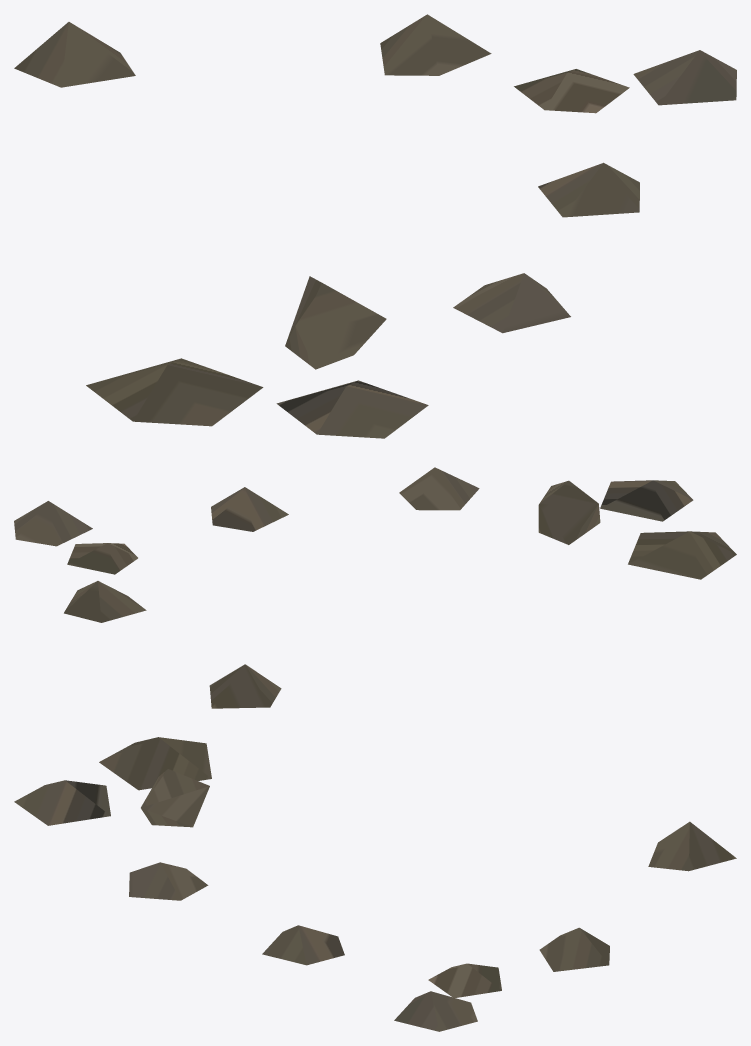
The model's file is rock_gfield2_hdtex.glb.
The picture shows the model from 3 angles, top to bottom: view 1: azimuth 30°, elevation 25°; view 2: azimuth 150°, elevation 25°; view 3: azimuth 270°, elevation 25°; orthographic projection. The views are drawn at different scales.
Visible parts, largest first — view 1: Rock_GField1; view 2: Rock_GField1; view 3: Rock_GField1.
Boxes of the visible parts, bbox=[...] form: Rock_GField1: bbox=[14, 14, 736, 438]; Rock_GField1: bbox=[14, 467, 736, 708]; Rock_GField1: bbox=[14, 737, 736, 1031].
Bounding box in the file's own units: 20.6 × 1.74 × 21.68.
Materials: 1 (1 with a texture image).
